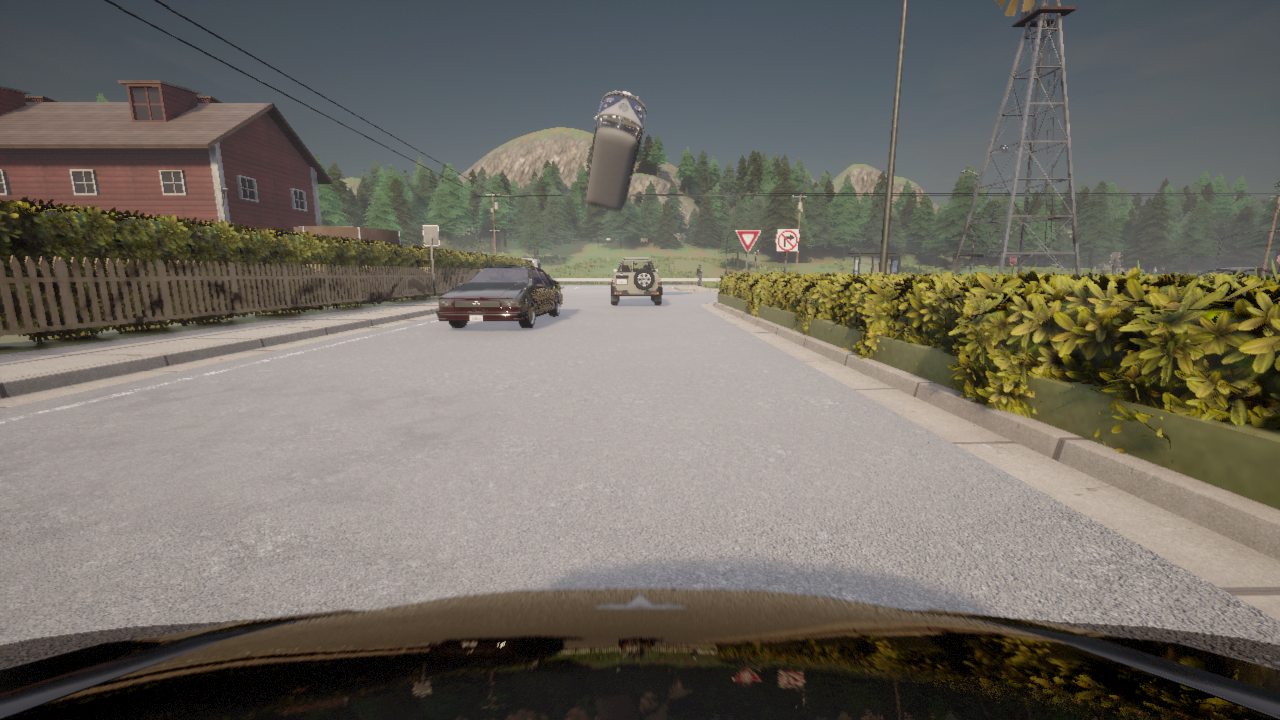cyclist: (0, 588, 1279, 719), (435, 266, 562, 327), (585, 90, 645, 211), (611, 257, 661, 305), (1196, 267, 1279, 277), (528, 259, 540, 268), (547, 274, 549, 275)
pedestrian: (696, 264, 702, 285)
